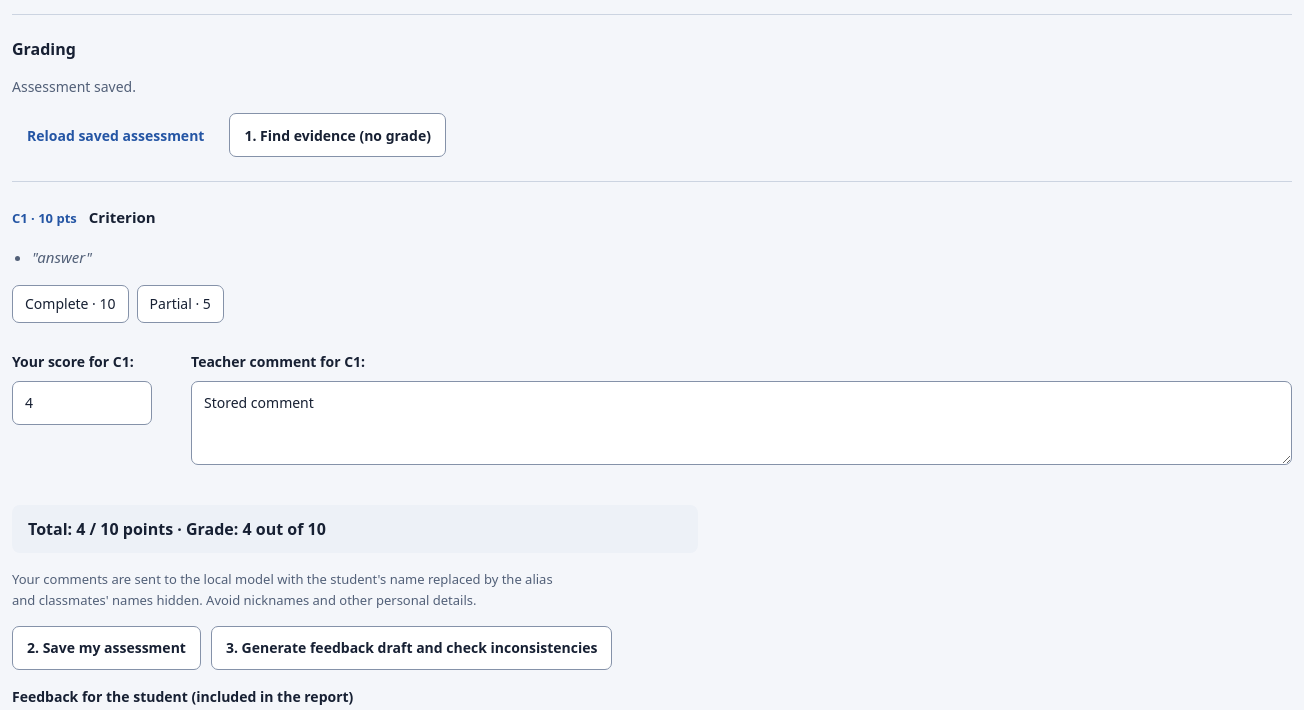
Test: saved assessment › restores evidence and scores and requires saving edits against the revision
The width and height of the screenshot is (1304, 710).
Expected: the text "\"answer\"" is shown, [32, 247, 92, 267]
Expected: the text "Total: 4 / 10 points · Grade: 4 out of 10" is shown, [12, 505, 698, 554]
Replace the text in the number field with "6": (82, 403) [12, 381, 152, 425]
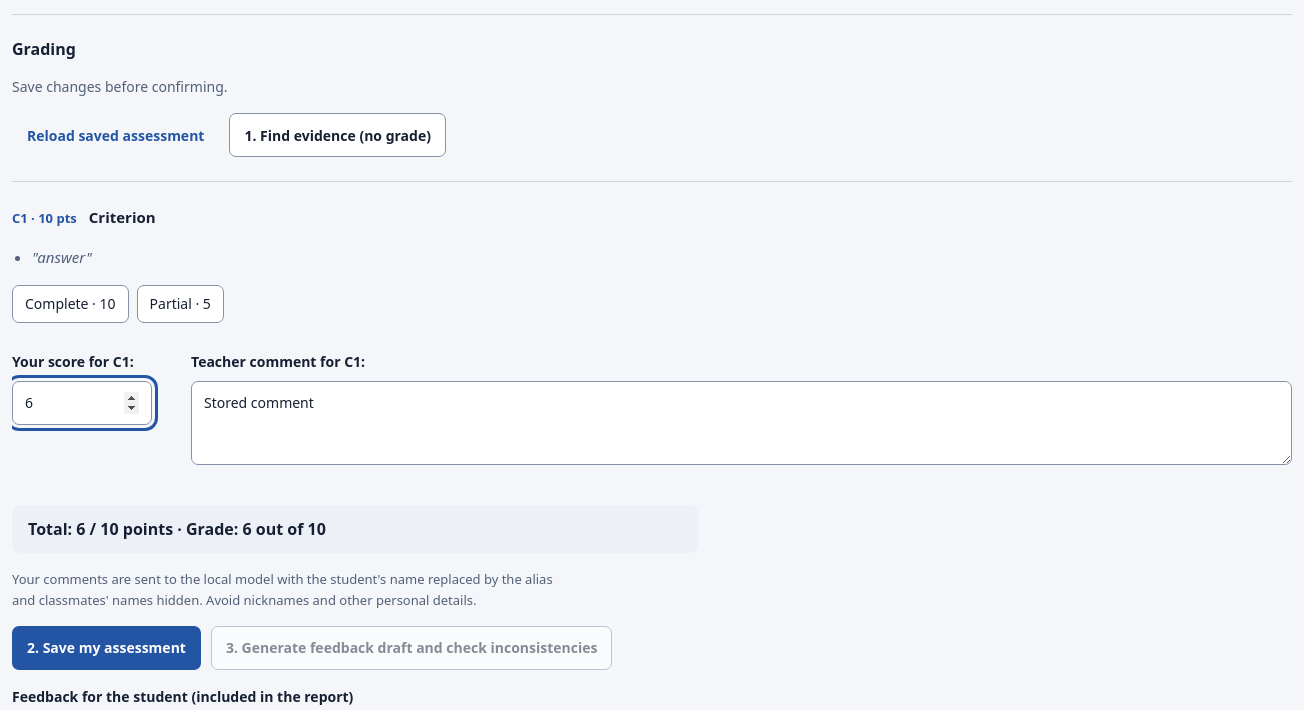
Result: the button "3. Generate feedback draft and check inconsistencies" is disabled at [211, 626, 612, 670]
Click the button "2. Save my assessment": (106, 648) [12, 626, 201, 670]
(page scrolled)
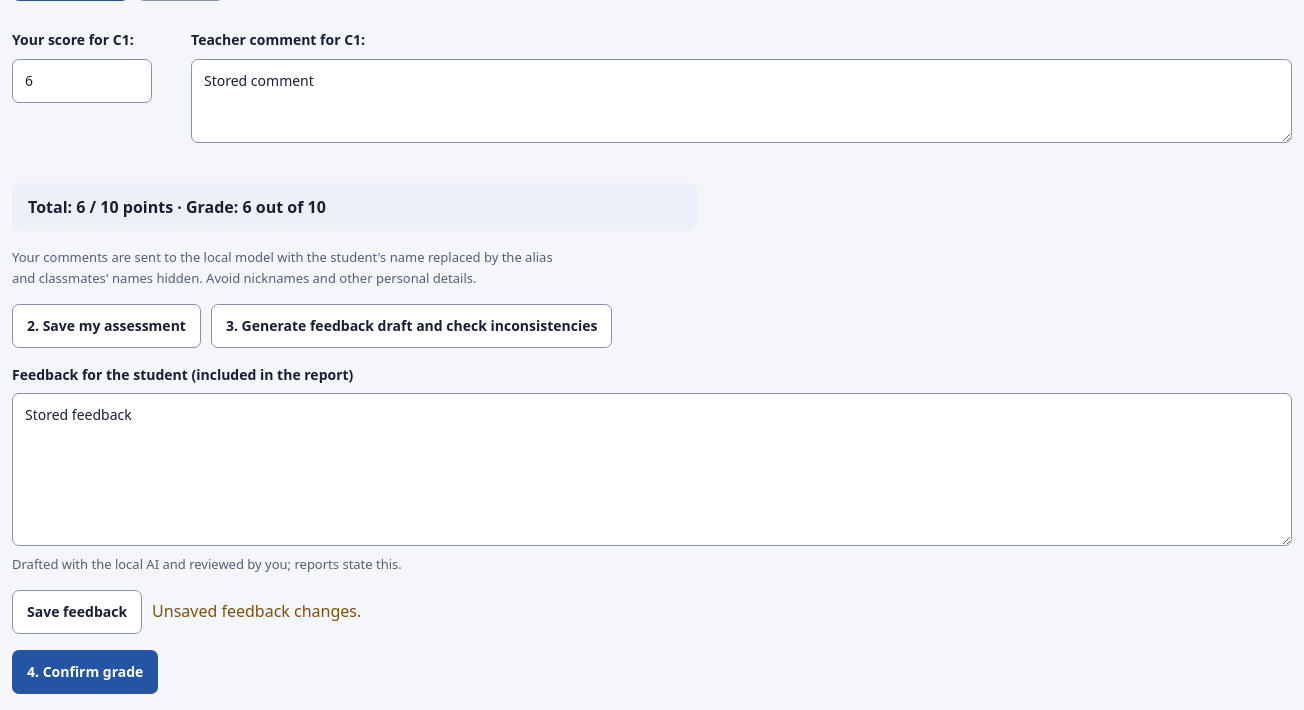
Result: the button "4. Confirm grade" is enabled at [12, 650, 158, 694]
